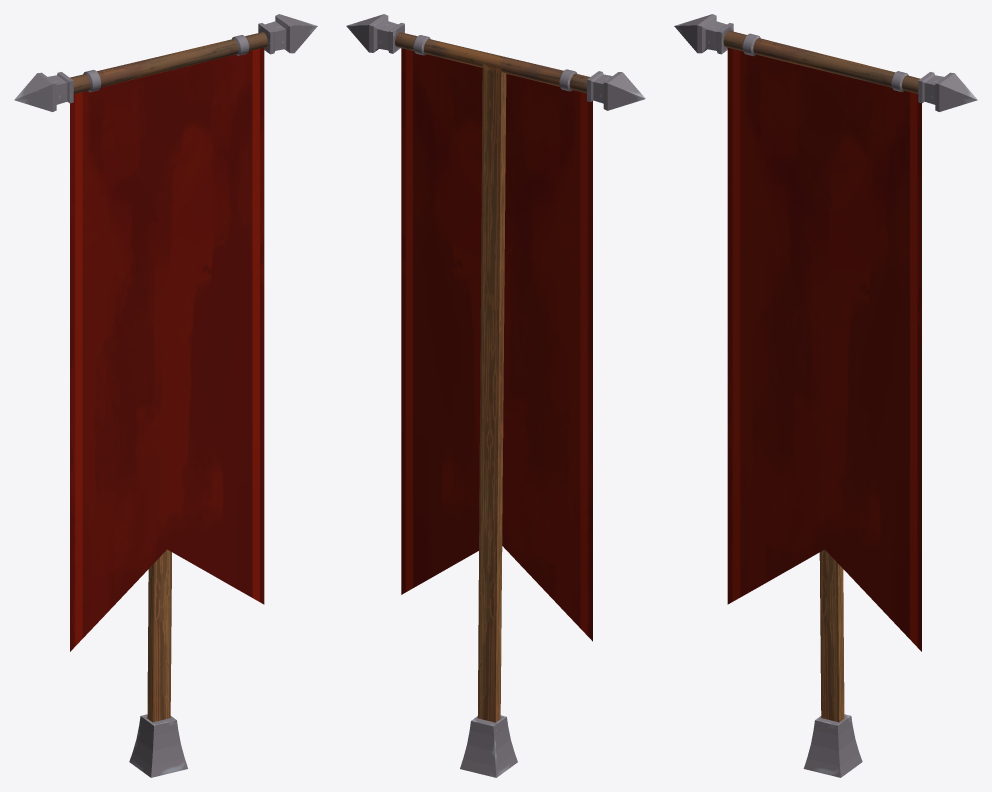
The model's file is Banner_Vertical_1.gltf.
3 renders of one model, left to right at view 1: azimuth 30°, elevation 25°; view 2: azimuth 150°, elevation 25°; view 3: azimuth 330°, elevation 25°, orthographic.
Visible parts, largest first — view 1: Banner_Vertical_1; view 2: Banner_Vertical_1; view 3: Banner_Vertical_1.
Part boxes in pixels (x1,y1,x2,y2): Banner_Vertical_1: (14,14,317,777); Banner_Vertical_1: (346,14,645,777); Banner_Vertical_1: (674,14,977,777).
Bounding box in the file's own units: 1.04 × 2.35 × 0.1525.
4 materials, 4 textured.
